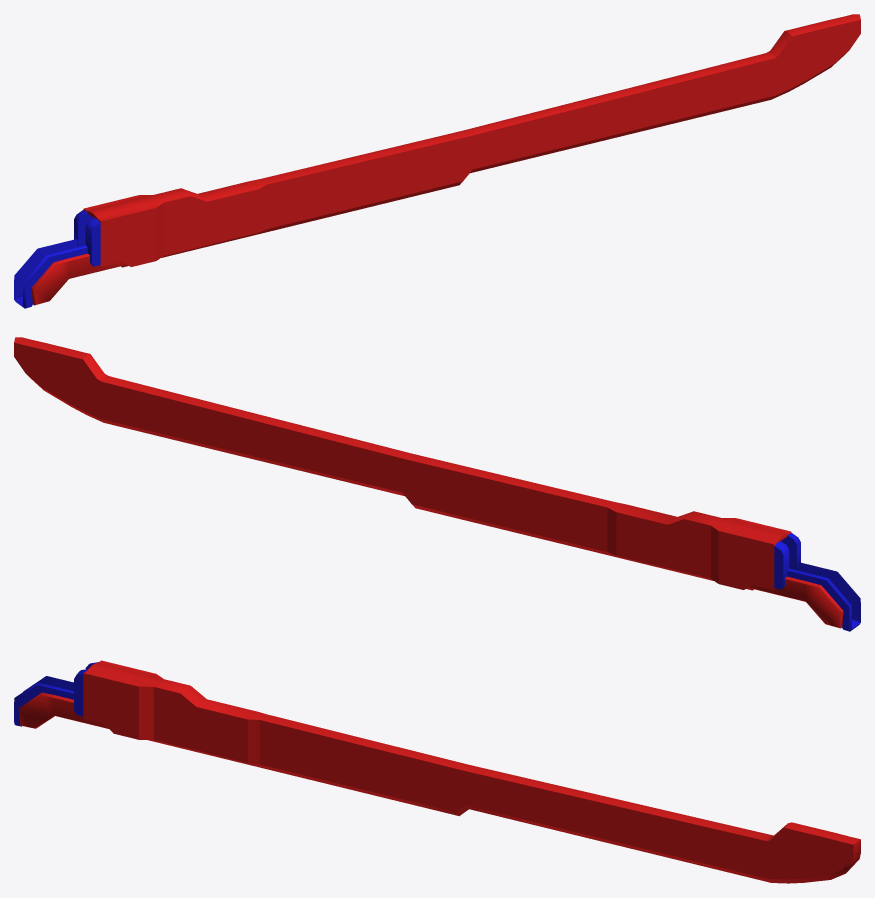
File: MookWorkshopSheathe.fbx
3 views of the same model, one above another, from view 1: azimuth 30°, elevation 25°; view 2: azimuth 150°, elevation 25°; view 3: azimuth 330°, elevation 25° (orthographic).
Visible parts, largest first — view 1: Mook Workshop - Sheathe; view 2: Mook Workshop - Sheathe; view 3: Mook Workshop - Sheathe.
Boxes of the visible parts, x1=… form: Mook Workshop - Sheathe: x1=14, y1=14, x2=860, y2=308; Mook Workshop - Sheathe: x1=14, y1=337, x2=860, y2=631; Mook Workshop - Sheathe: x1=14, y1=660, x2=860, y2=883.
Size of the model in its own units: 136 by 13.36 by 4.91.
